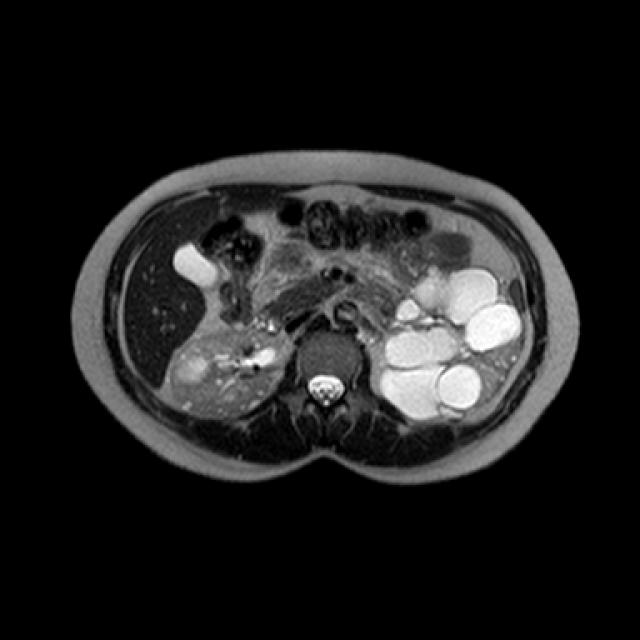sag: (168, 320, 287, 419)
sol: (376, 264, 526, 424)
